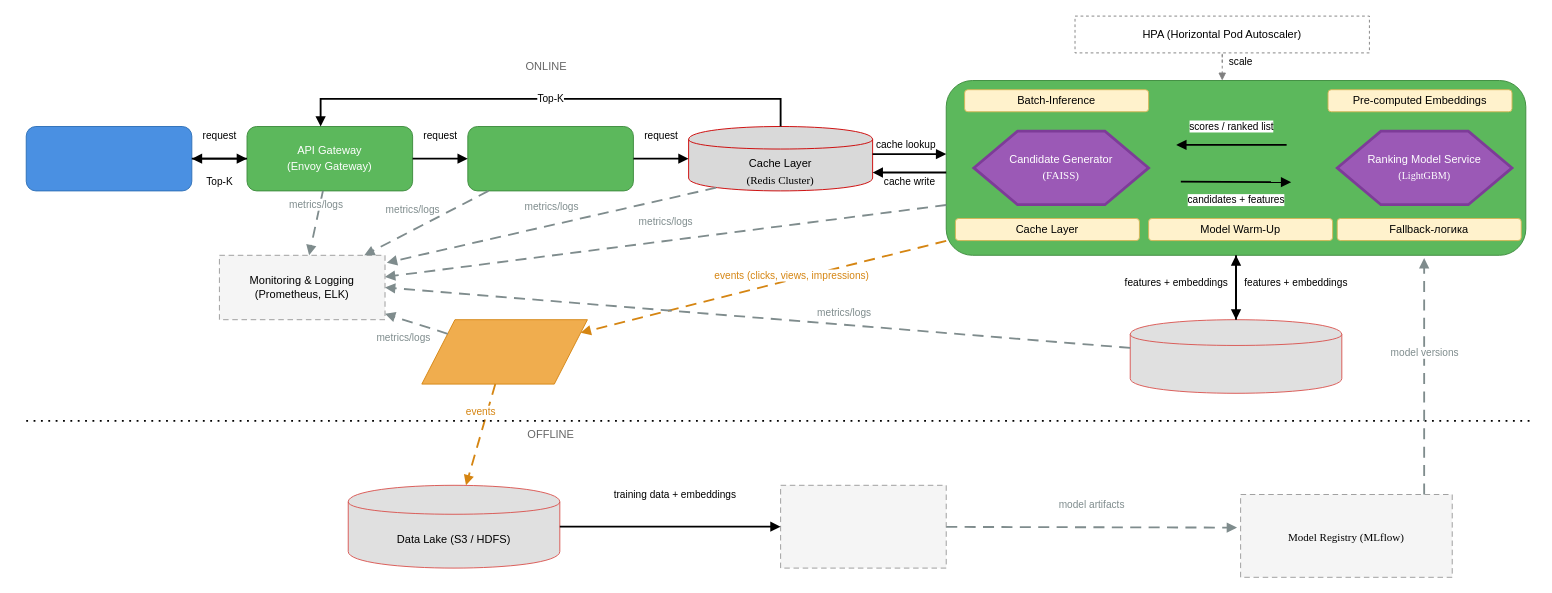
Some shapes in this 1552 by 593 pixel diagram are drawn without their labels. Each missing label, with the box of its shape:
Event Logging: (421, 319, 587, 384)
Load Balancer ( MetalLB (L2/BGP) + Ingress (NGINX/Envoy) ): (467, 126, 633, 191)
Online Feature Store (Redis / RocksDB): (1129, 319, 1342, 393)
Recommendation Service: (945, 80, 1526, 255)
Training Platform: (780, 484, 946, 568)
Web / Mobile Client: (25, 126, 192, 191)
